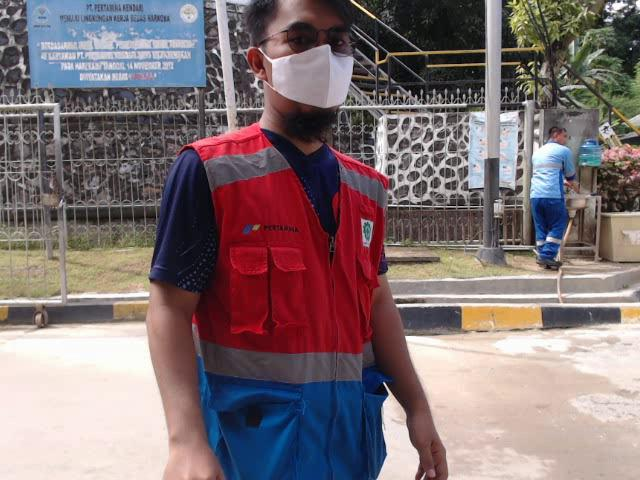mask: (268, 42, 353, 113)
